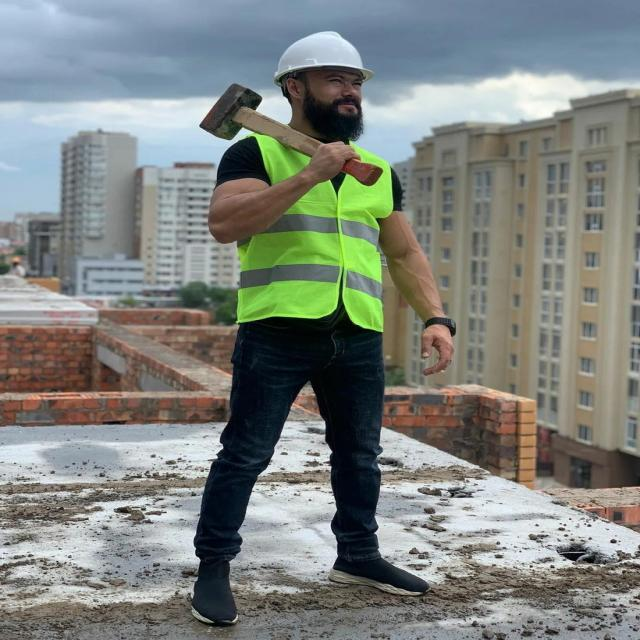Helmet: (275, 34, 377, 90)
Jacket: (235, 113, 394, 327)
